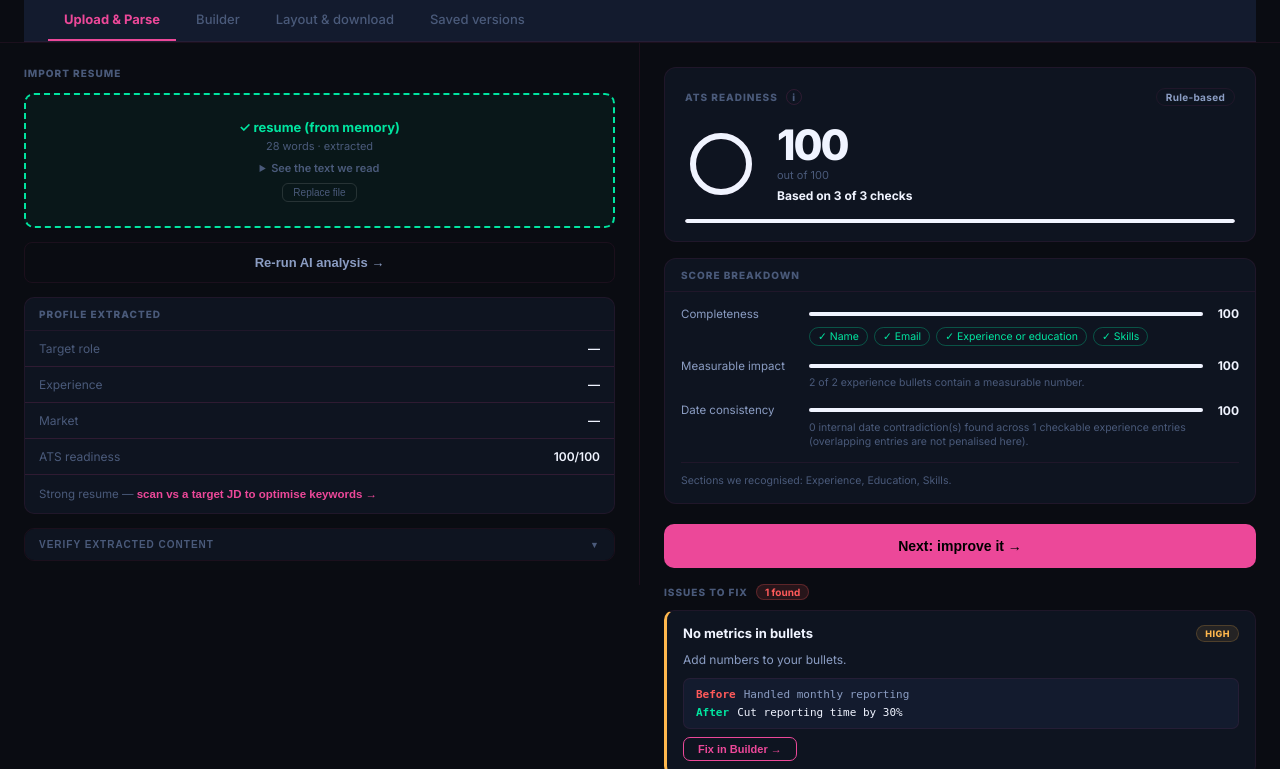
it: Fix in Builder › keeps the issue on screen in the builder: its title, and what is wrong once it is asked for
The image size is (1280, 769).
(page scrolled)
Click the button "Fix in Builder →" at [740, 749], box left=683, top=737, right=797, bottom=761
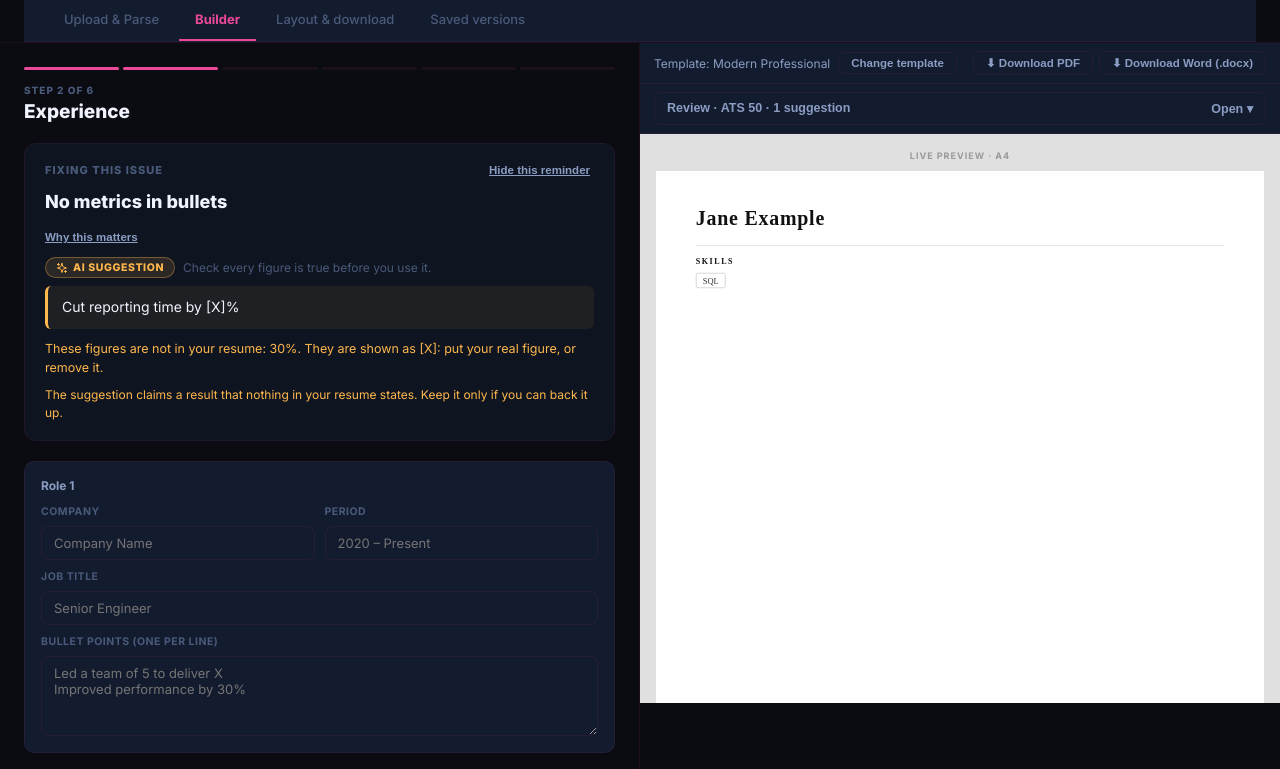
Expected: the element "Fixing" shows "No metrics in bullets", left=45, top=191, right=227, bottom=212
Expected: the text "fixing" no longer shows "Add numbers to your bullets."
Click the button "Why this matters" at [91, 237], box left=45, top=231, right=138, bottom=243
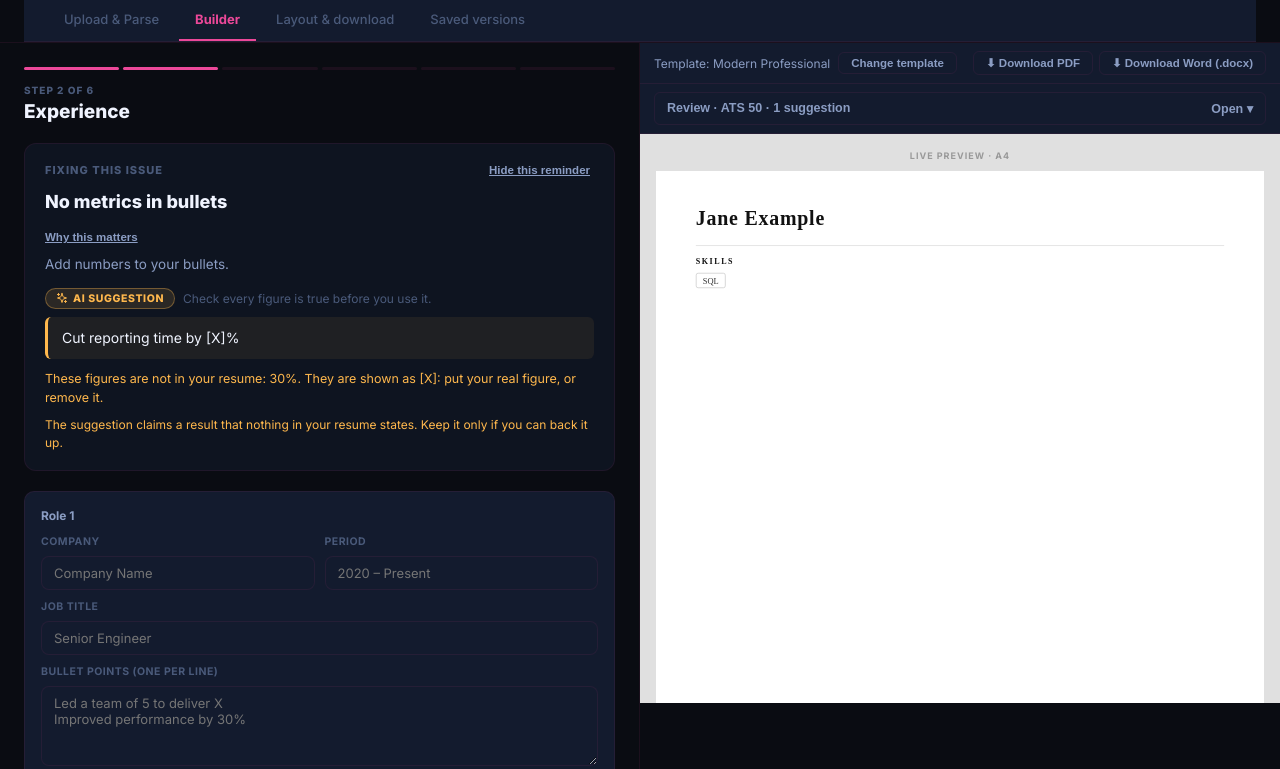
Expected: the text "fixing" does not show "Handled monthly reporting"
Expected: the element "Fixing" shows "Add numbers to your bullets.", left=45, top=256, right=229, bottom=272
